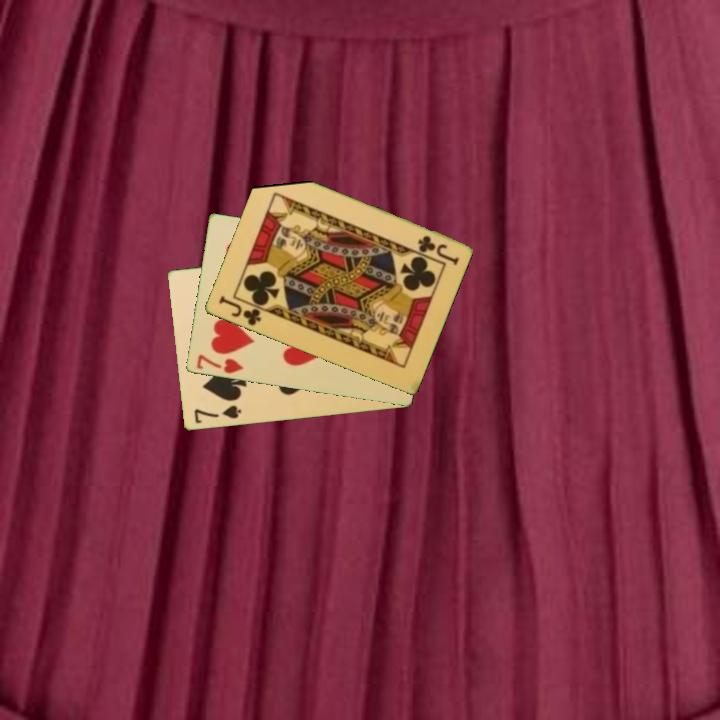7h: (193, 351, 246, 377)
7s: (190, 402, 244, 427)
Jc: (215, 292, 264, 329), (414, 232, 461, 267)
